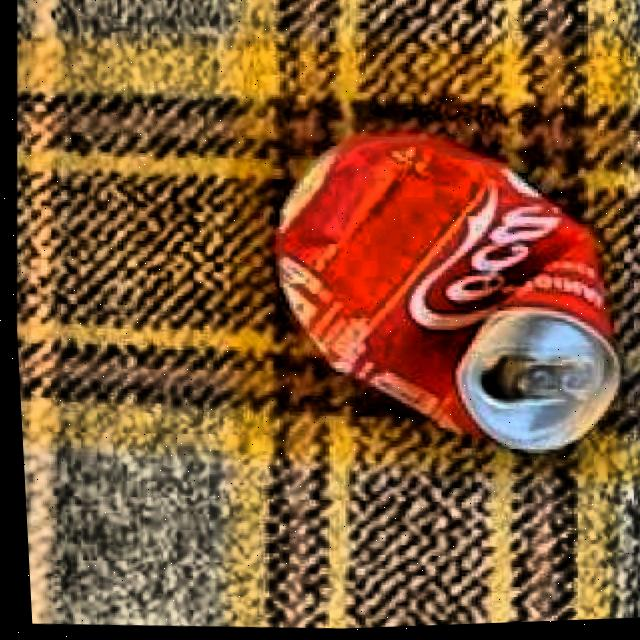metal: (265, 132, 621, 459)
